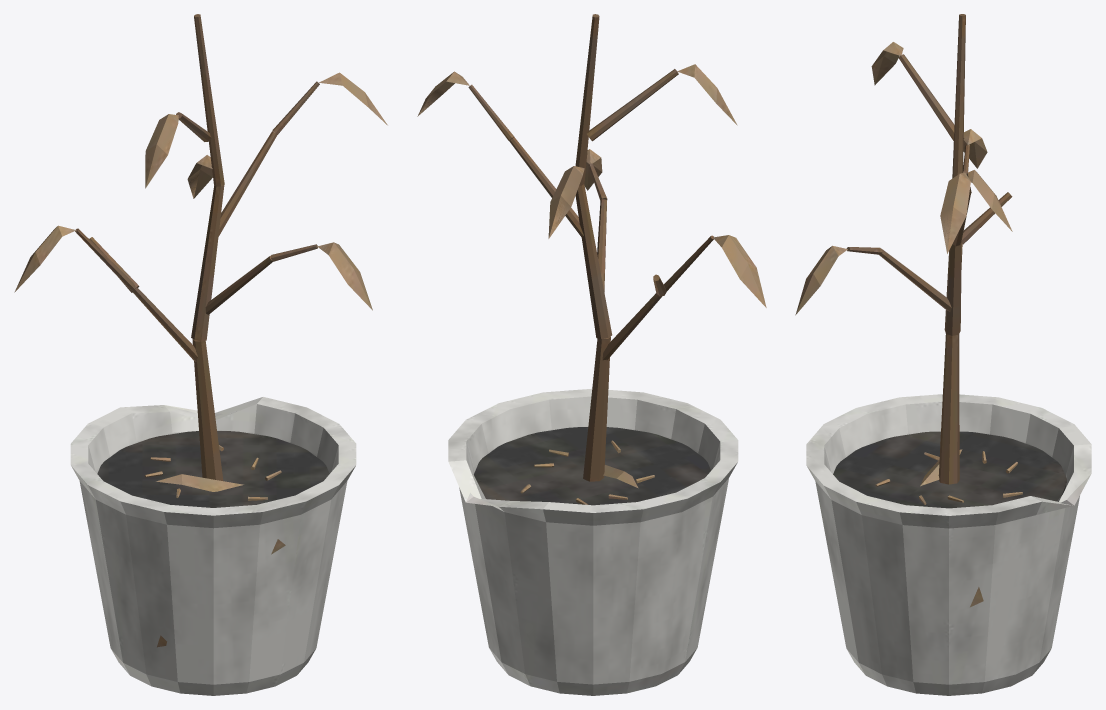
The model's file is O10_dead_plant_in_pot_v1.glb.
The picture shows the model from 3 angles, left to right: view 1: azimuth 30°, elevation 25°; view 2: azimuth 150°, elevation 25°; view 3: azimuth 270°, elevation 25°; orthographic projection.
Visible parts, largest first — view 1: Chipped ceramic planter; view 2: Chipped ceramic planter; view 3: Chipped ceramic planter.
Boxes of the visible parts, left/top/right/bottom form: Chipped ceramic planter: left=14, top=14, right=387, bottom=695; Chipped ceramic planter: left=417, top=14, right=766, bottom=695; Chipped ceramic planter: left=795, top=14, right=1091, bottom=695.
Bounding box in the file's own units: 0.4723 × 0.8 × 0.3377.
4 materials, 4 textured.
